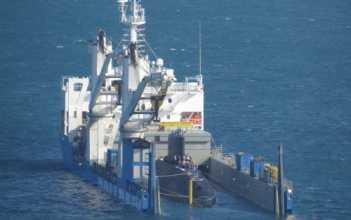otherboat: (55, 2, 300, 220)
